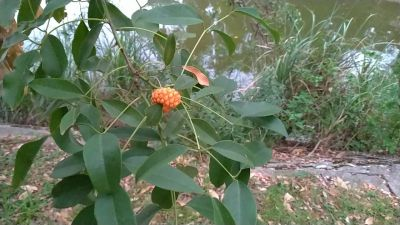eggs: (151, 85, 183, 110)
